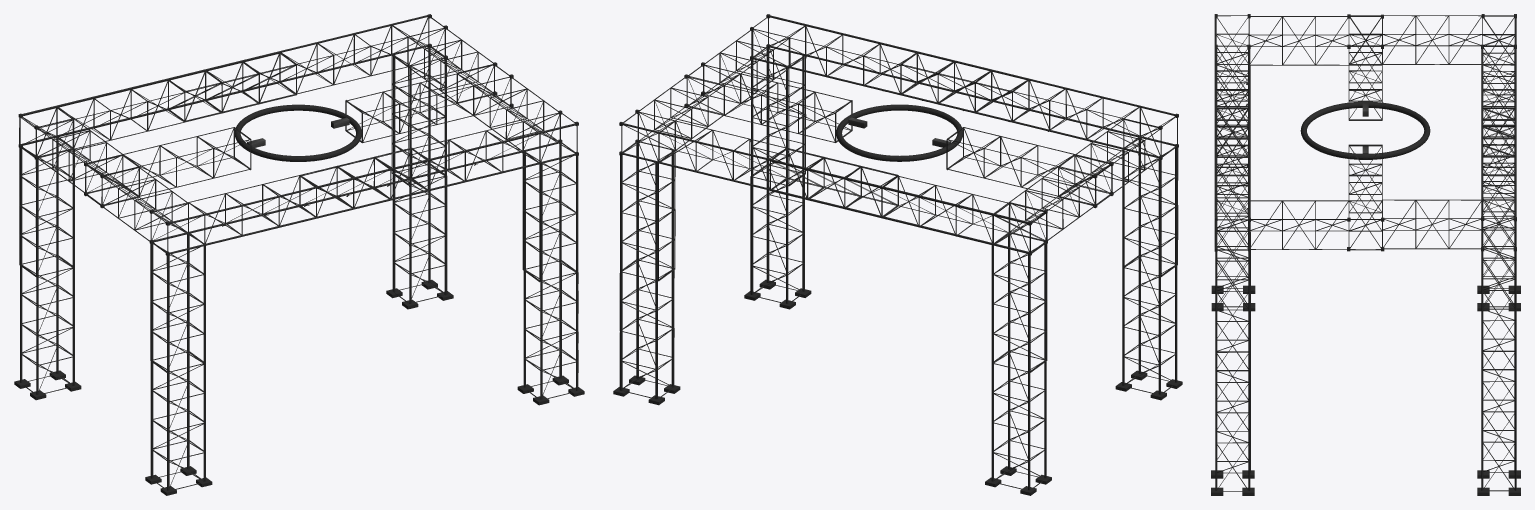
File: VigasLuz.fbx
3 renders of one model, left to right at view 1: azimuth 30°, elevation 25°; view 2: azimuth 150°, elevation 25°; view 3: azimuth 270°, elevation 25°, orthographic.
Parts seen in each view (by area): view 1: Cubo; view 2: Cubo; view 3: Cubo.
Part boxes in pixels (<box>): Cubo: <box>14,14,584,495</box>; Cubo: <box>613,14,1182,495</box>; Cubo: <box>1211,14,1520,495</box>.
Size of the model in its own units: 1839 by 1143 by 1163.
